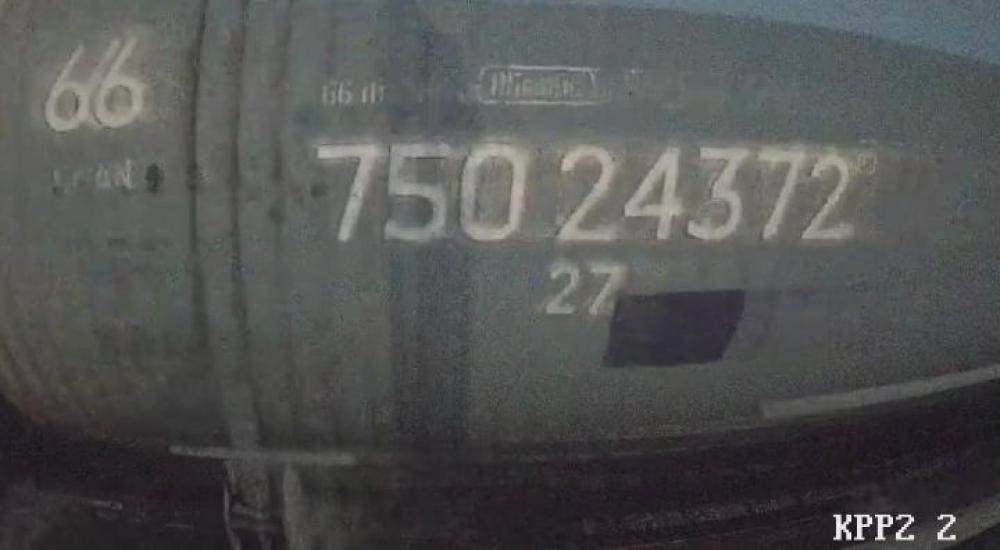Wagon-number: (309, 136, 852, 248)
